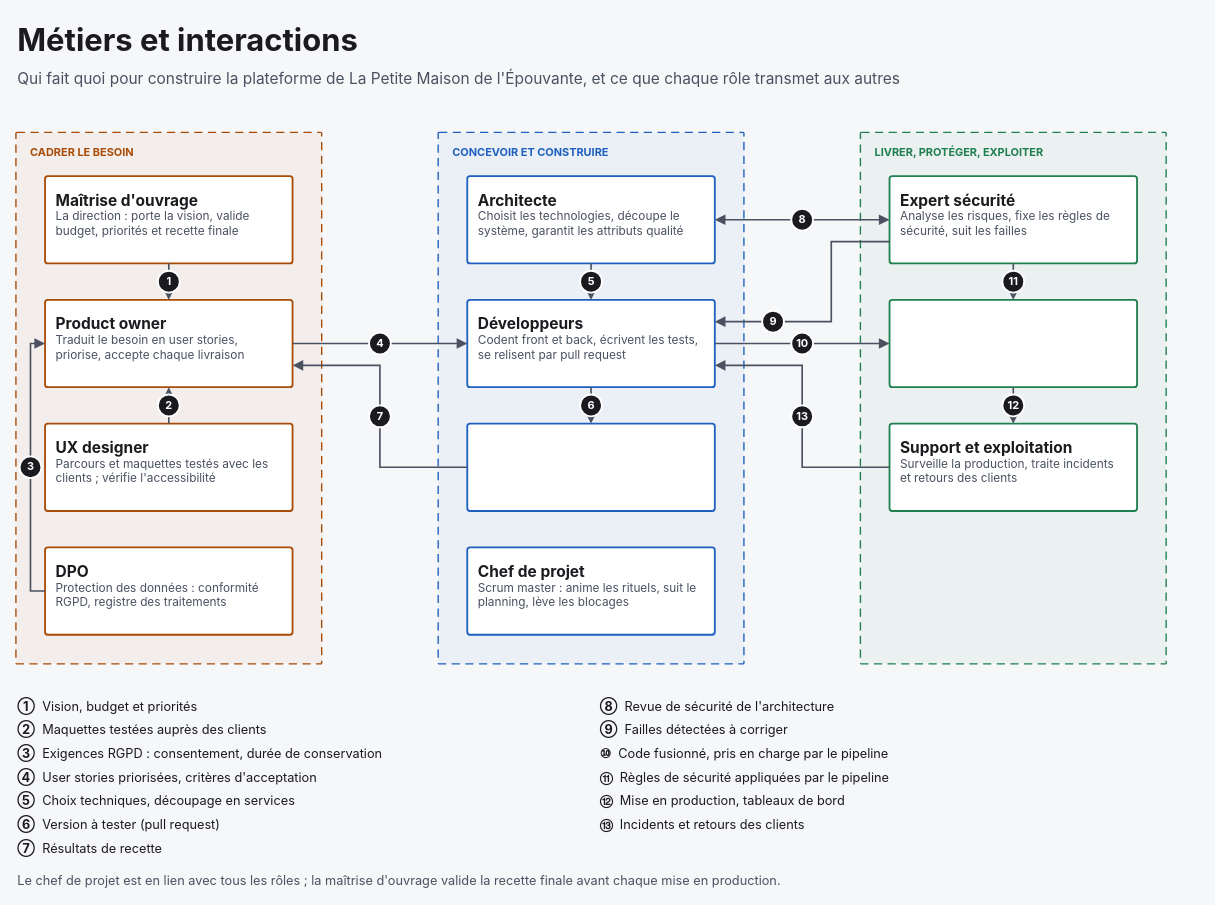
This 1215x905 diagram has some shape labels left out. Here are the shapes that lost their labels. From the top down, the centre of each, then its label:
At (x=1013, y=343): "DevOps Maintient le pipeline CI/CD, l'infrastructure et les déploiements".
At (x=590, y=466): "QA (testeur) Stratégie de test, tests automatisés et recette fonctionnelle".
